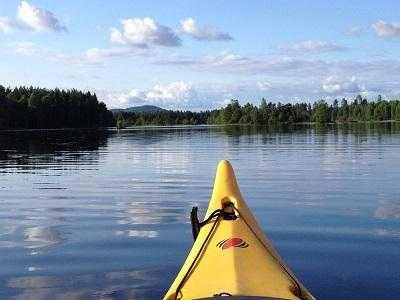kayak: (162, 159, 317, 300)
